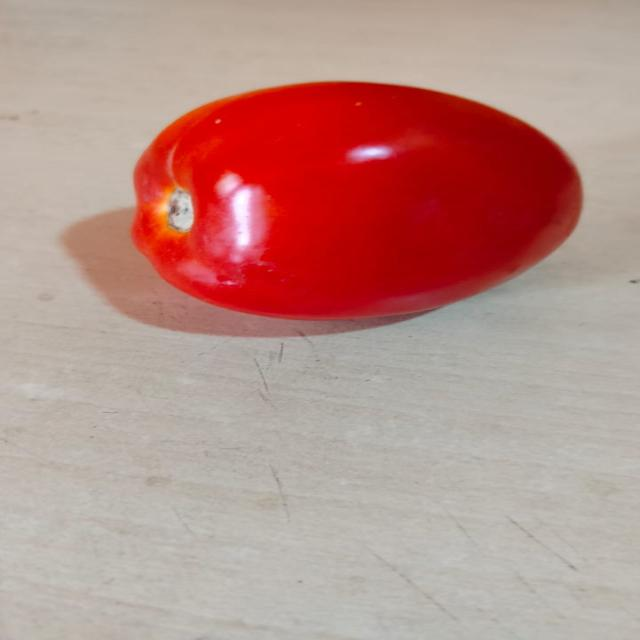tomato: (127, 82, 583, 336)
